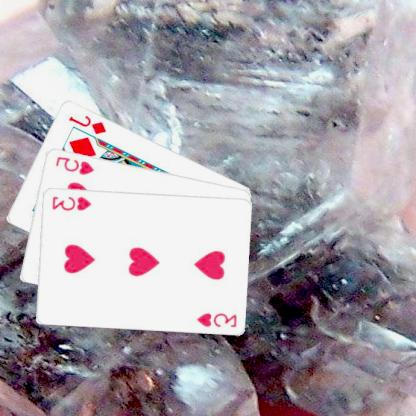3H: (196, 309, 240, 329), (51, 194, 94, 212)
5H: (54, 153, 97, 176)
JD: (67, 112, 110, 136)
